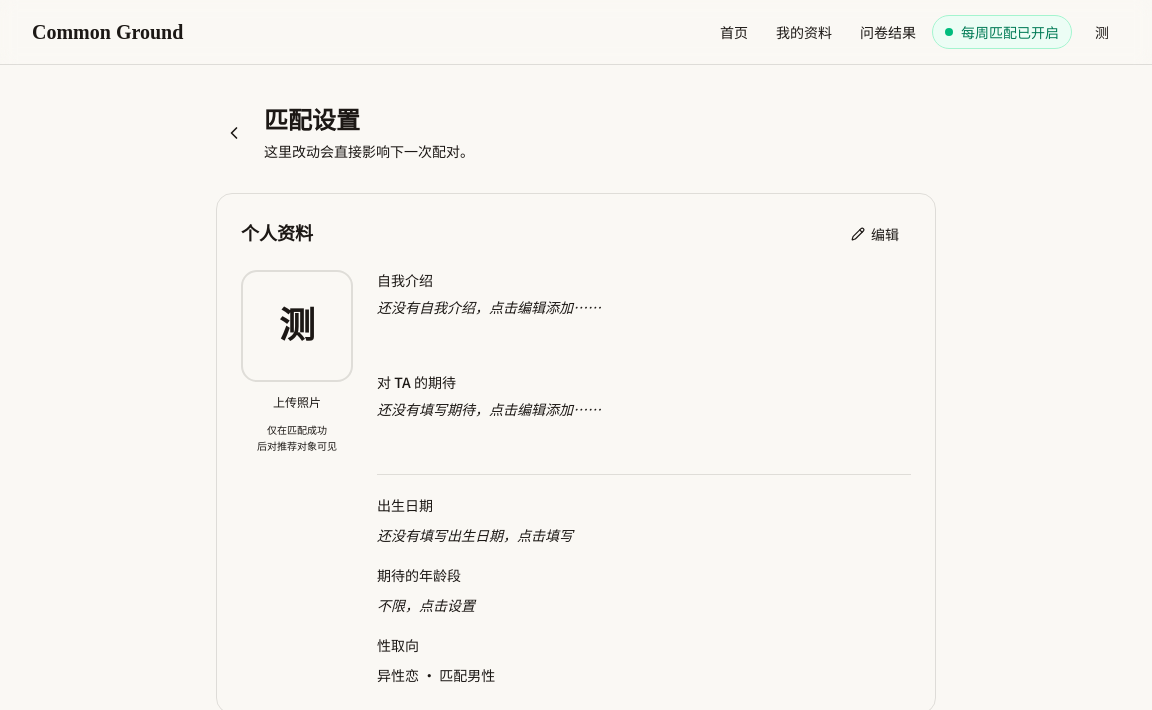
Test: profile fields are reachable › birth date and orientation are clickable too
The image size is (1152, 710).
Check: the heading "匹配设置" is shown, box [264,108,360,134]
Check: the button "还没有填写出生日期，点击填写" is shown, box [369,521,903,549]
Click the button "异性恋" at (398, 675), box [369,661,903,689]
(page scrolled)
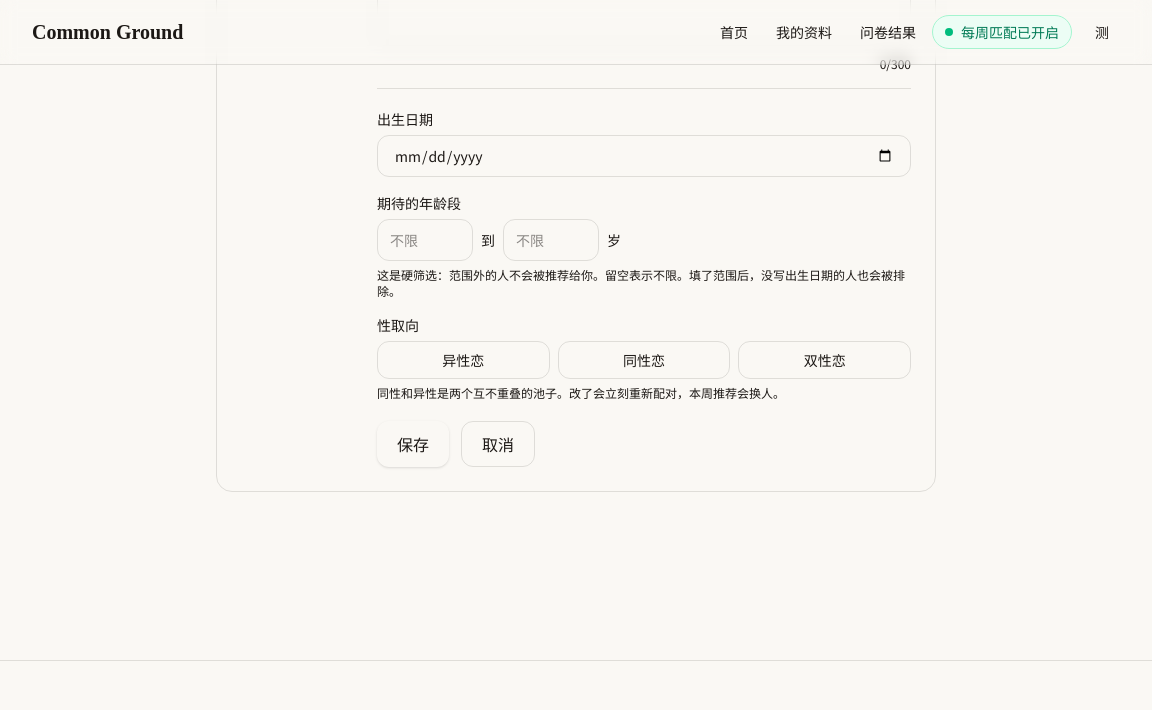
Check: the date field labelled "出生日期" is shown, box [377,135,911,177]
Check: the number field named "年龄下限" is shown, box [377,219,473,261]
Check: the number field named "年龄上限" is shown, box [503,219,599,261]
